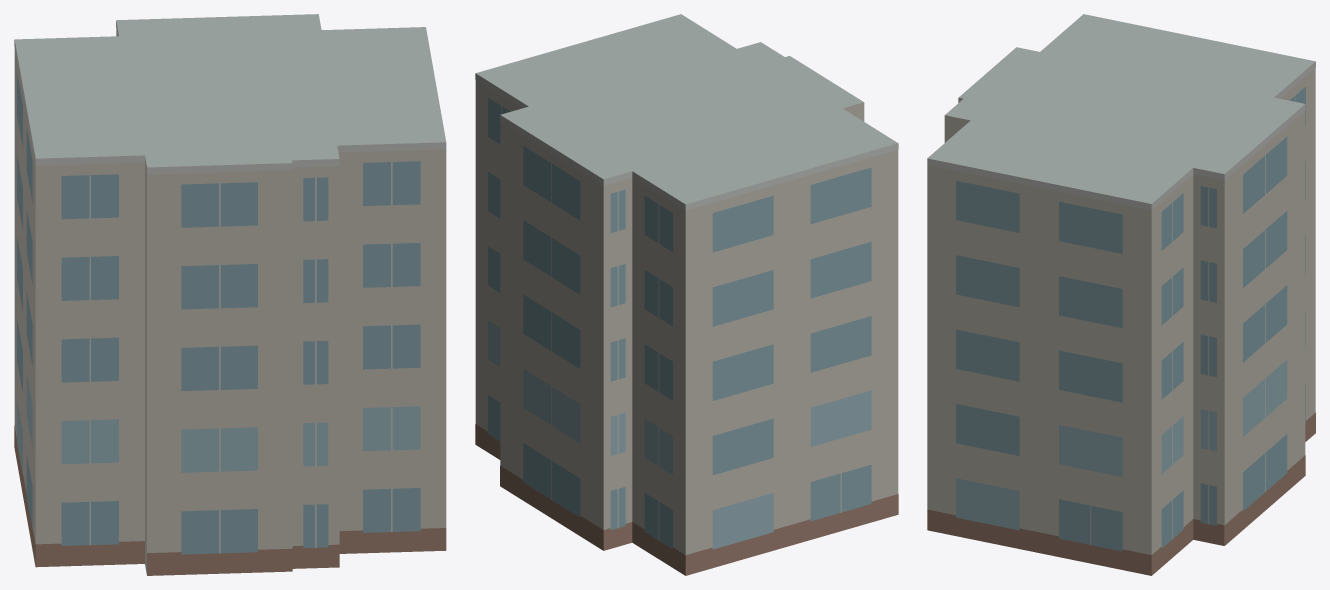
File: survey-upis-32607145.glb
3 views of the same model, side by side, from view 1: azimuth 30°, elevation 25°; view 2: azimuth 150°, elevation 25°; view 3: azimuth 270°, elevation 25° (orthographic). The views are drawn at different scales.
Visible parts, largest first — view 1: survey-upis-32607145.tmp; view 2: survey-upis-32607145.tmp; view 3: survey-upis-32607145.tmp.
Part boxes in pixels (<box>): survey-upis-32607145.tmp: <box>14,14,446,575</box>; survey-upis-32607145.tmp: <box>475,14,898,575</box>; survey-upis-32607145.tmp: <box>927,14,1315,575</box>.
Size of the model in its own units: 15.57 by 14.2 by 13.46.
